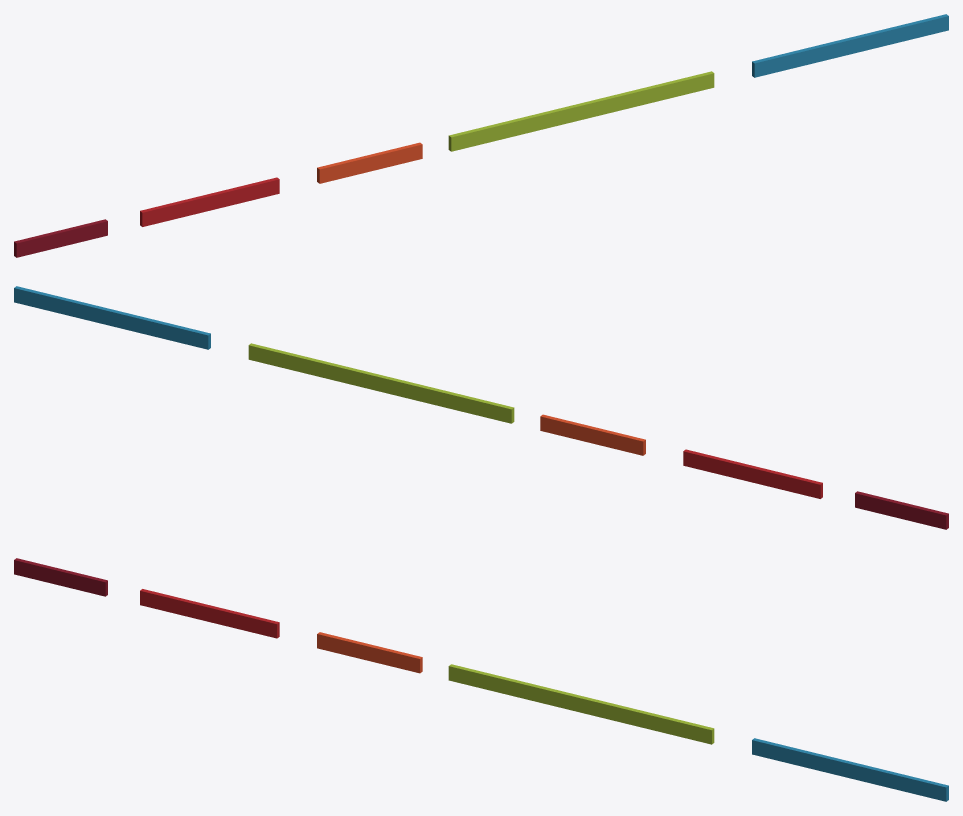
Rendered from effluent_treatment_plant_pressure.glb.
3 views of the same model, one above another, from view 1: azimuth 30°, elevation 25°; view 2: azimuth 150°, elevation 25°; view 3: azimuth 330°, elevation 25° (orthographic).
Visible parts, largest first — view 1: pressure__front, pressure__back; view 2: pressure__back, pressure__front; view 3: pressure__front, pressure__back.
Part boxes in pixels (<box>): pressure__front: <box>15,15,948,257</box>; pressure__back: <box>14,14,946,256</box>; pressure__back: <box>14,287,947,529</box>; pressure__front: <box>16,286,948,528</box>; pressure__front: <box>14,559,947,801</box>; pressure__back: <box>16,558,948,800</box>.
Bounding box in the file's own units: 8.15 × 0.12 × 0.04.
